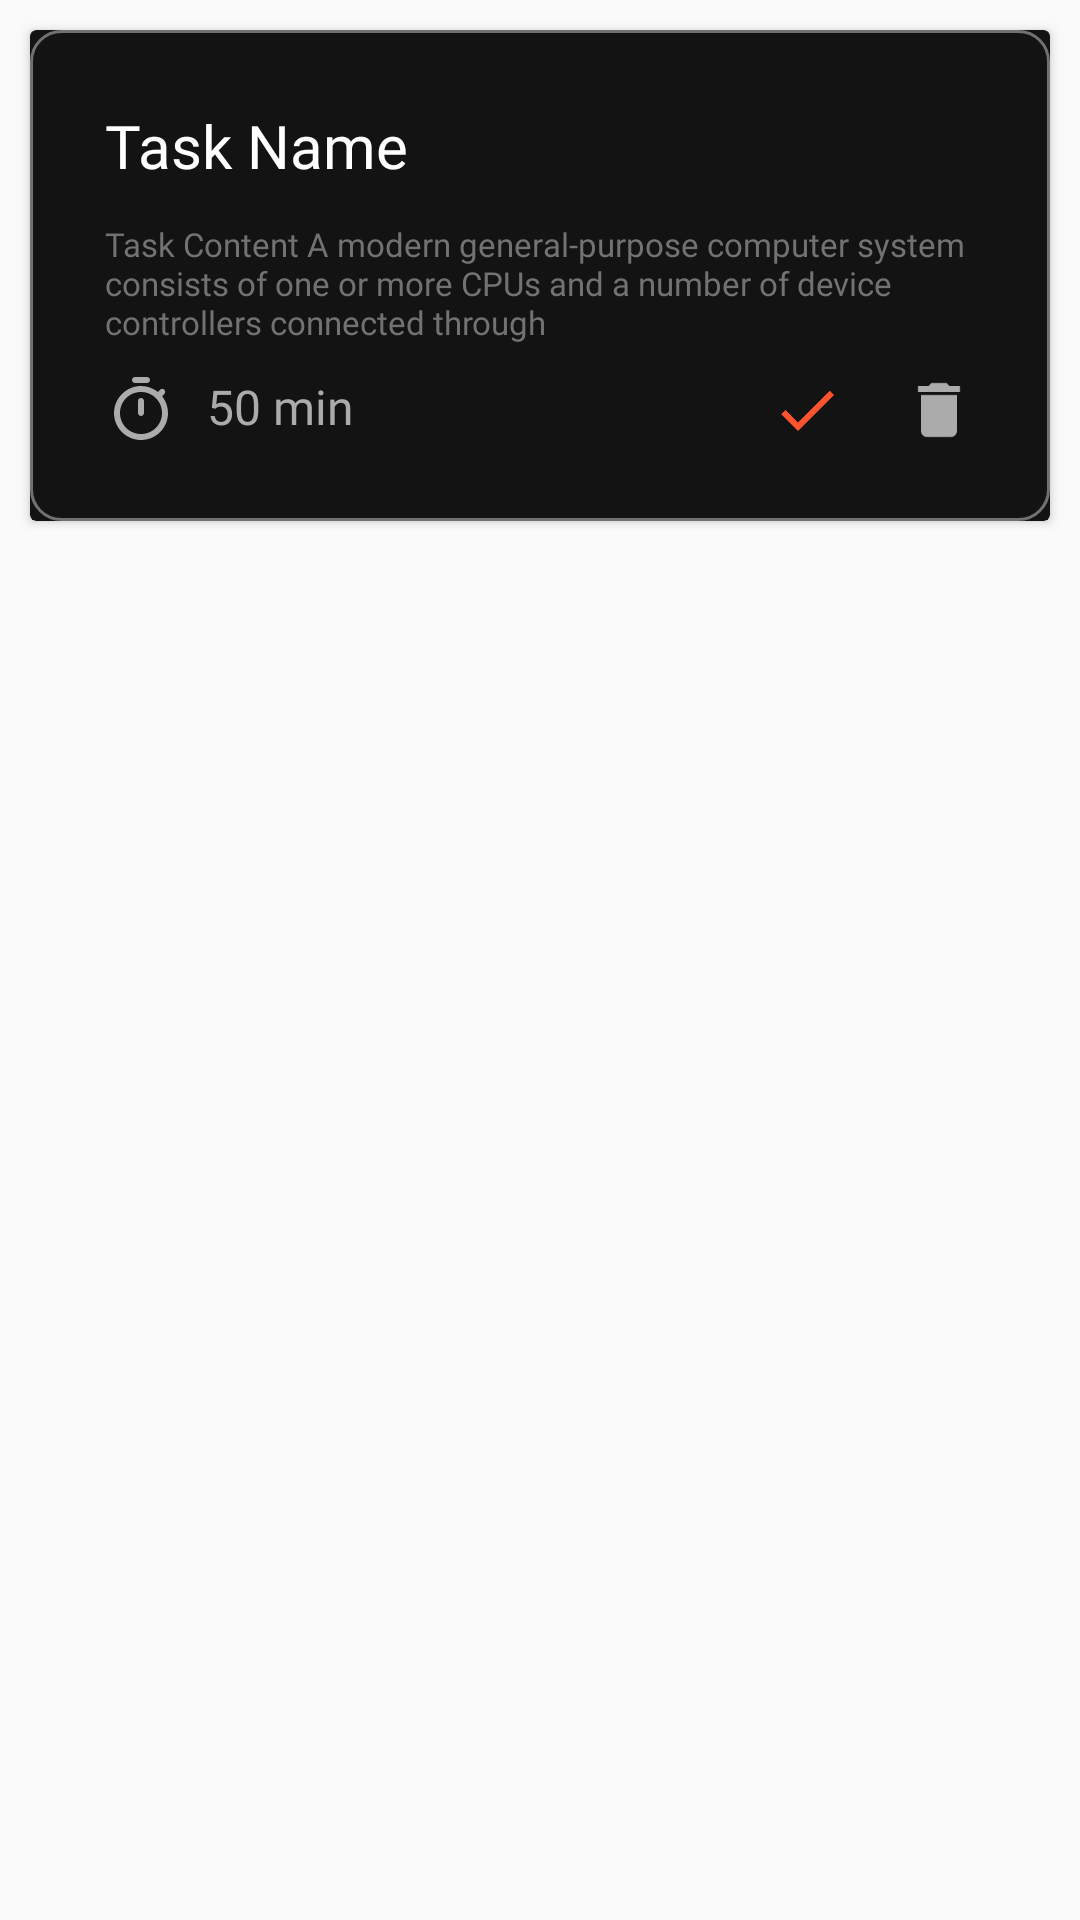

Where icons sit on this 1080 × 1920 app screen, as (x1, y1, x2, y2):
check: (781, 391, 834, 431)
delete: (918, 383, 960, 437)
timer: (114, 377, 168, 440)
